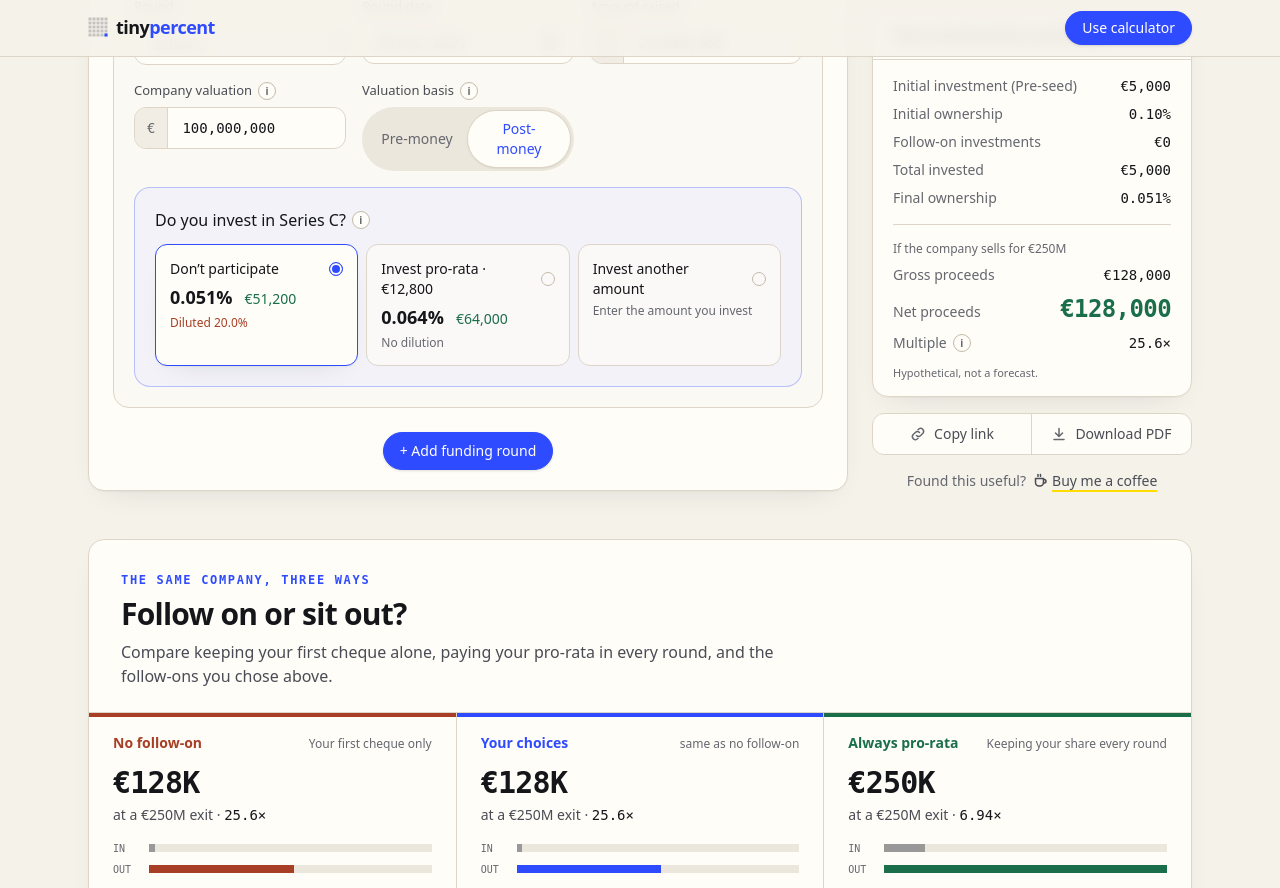
Test: future rounds and the follow-on choice › opens a round you have just added
(page scrolled)
Click the button "+ Add funding round". click: (468, 450)
box: [383,432,553,470]
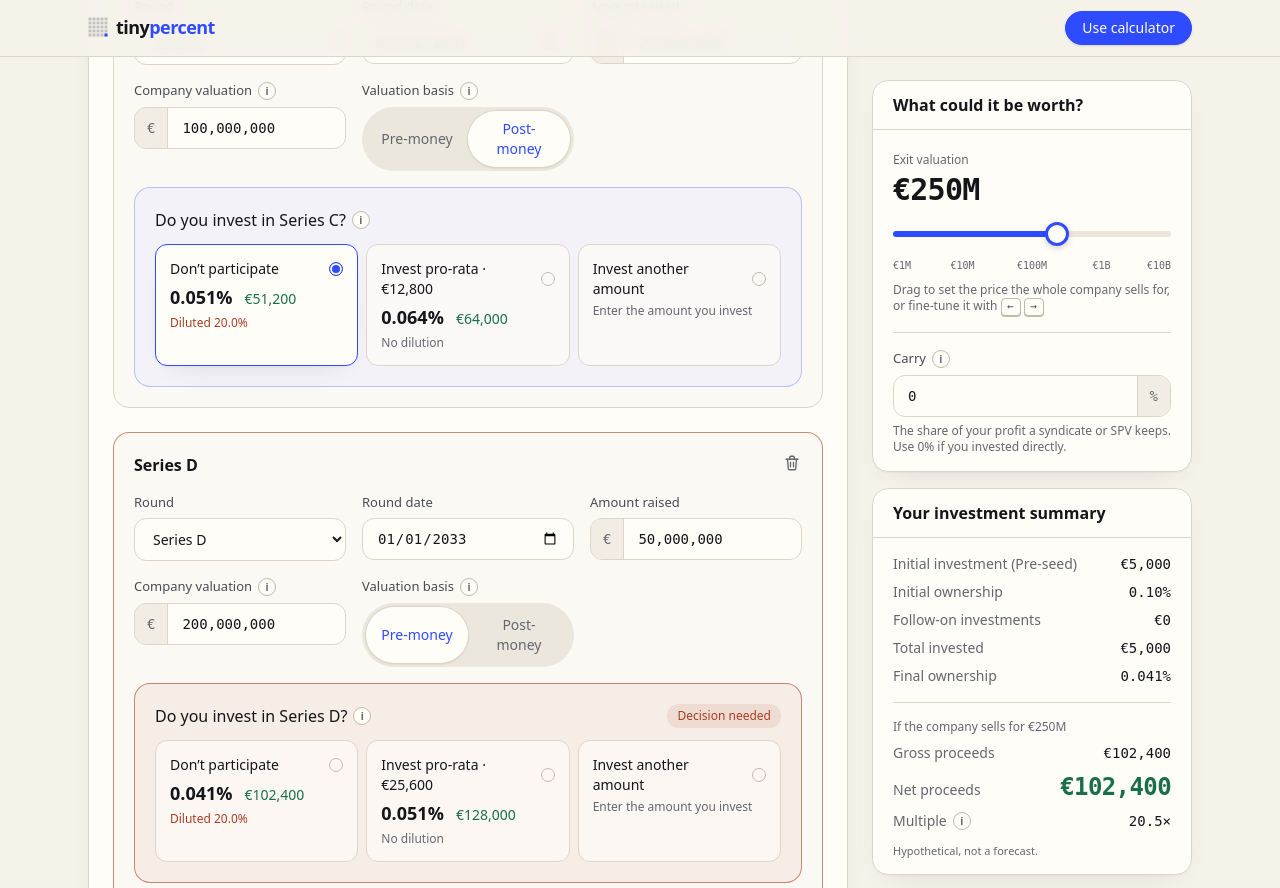
Check: the field labelled "Amount raised" is shown, box [624,519,801,559]
